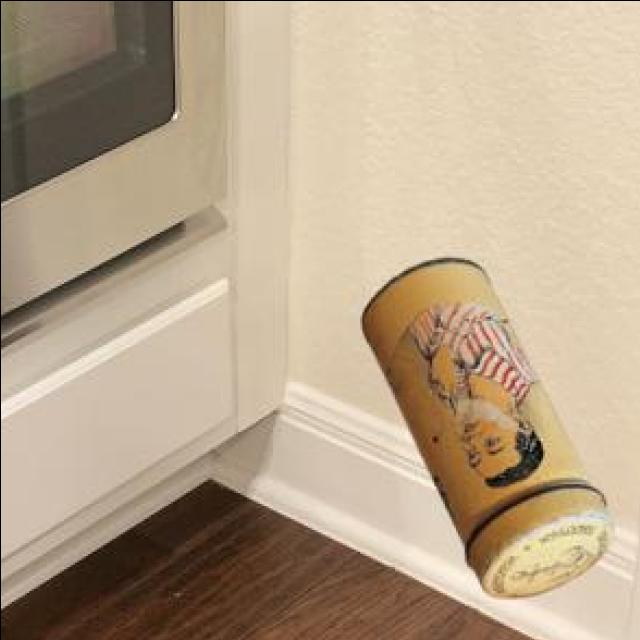logam: (358, 254, 608, 593)
